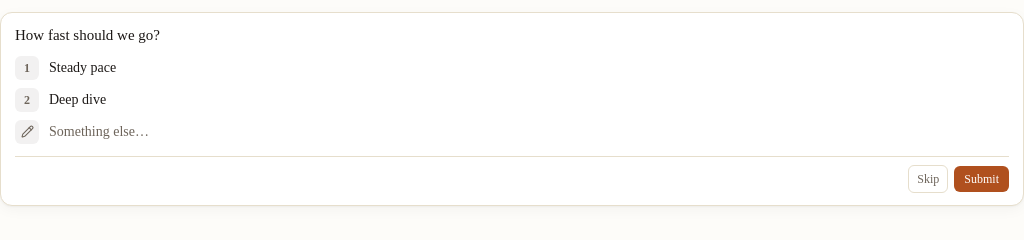
picking an option by its number › leaves the digit alone once the user is writing their own reply
This screenshot has width=1024, height=240.
Click the button "Something else…" at [99, 132], box [9,116,1015,148]
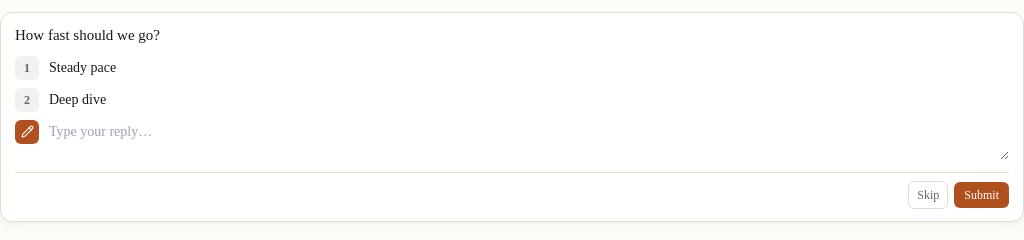
Type keys "2"
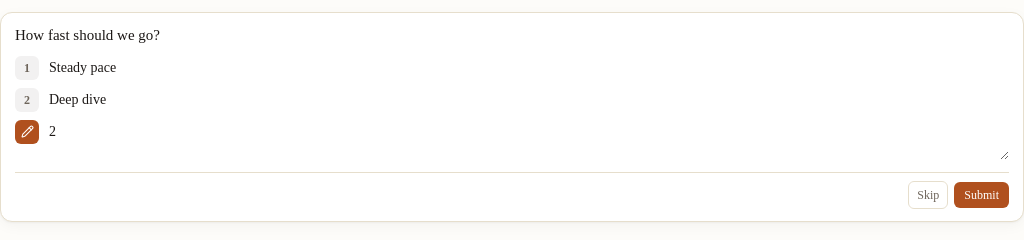
Result: the text box holds "2" at [49,120,1009,160]
